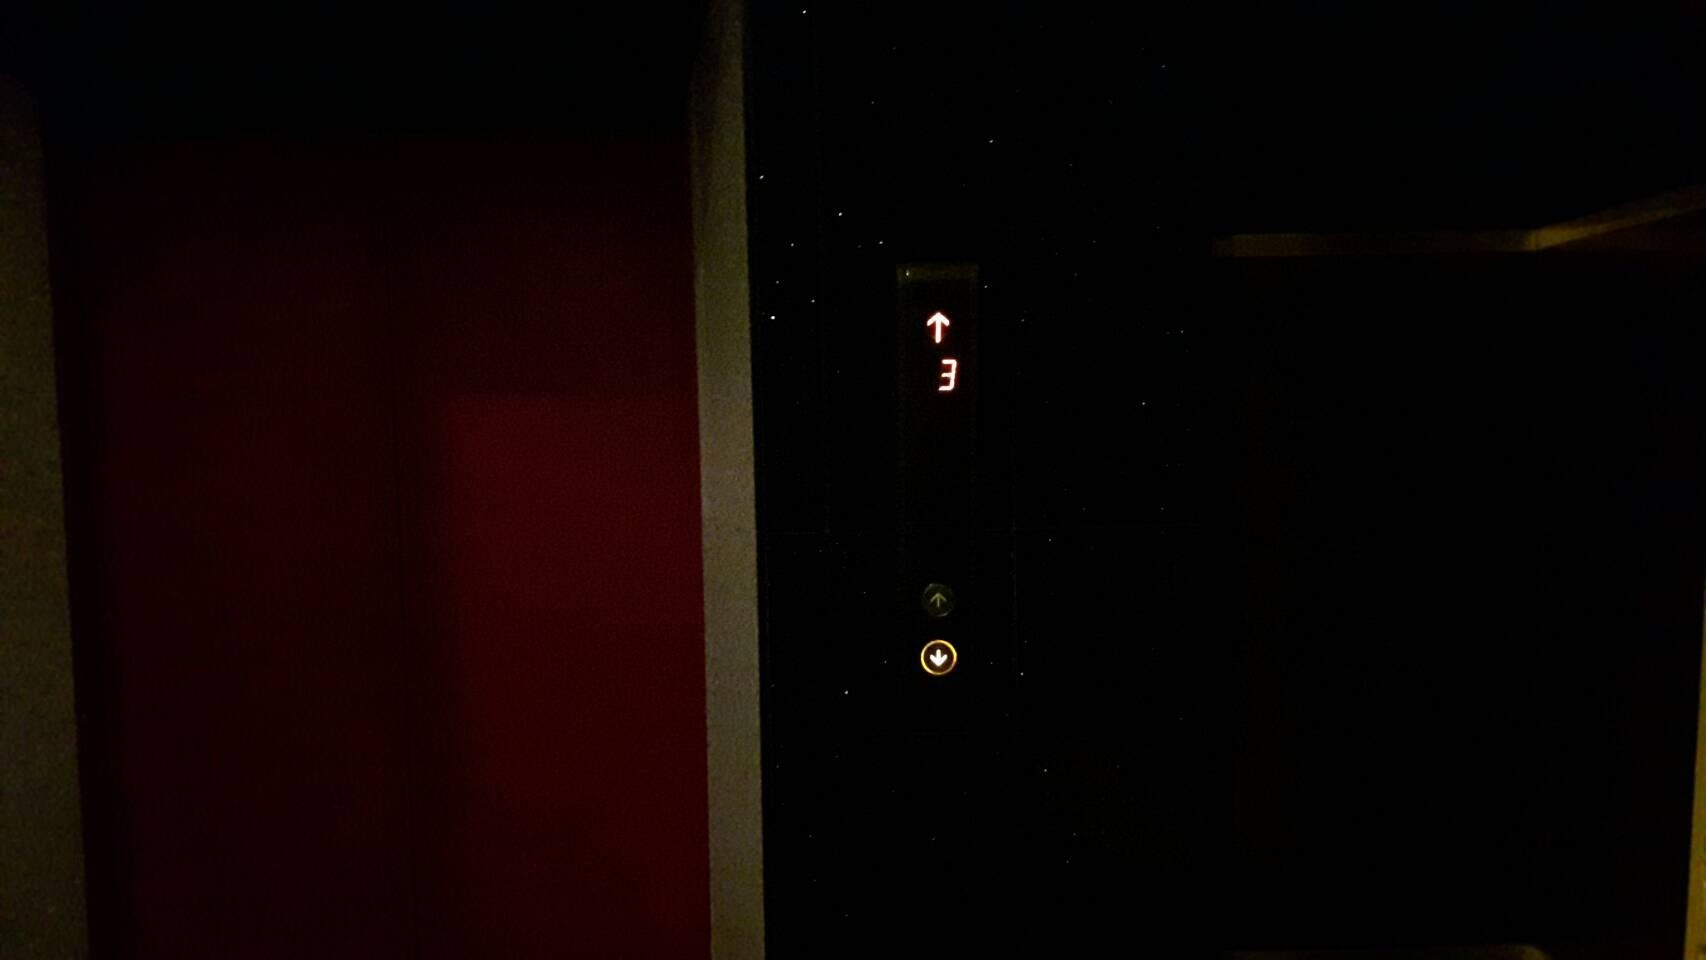down: (917, 636, 958, 679)
up: (919, 580, 956, 621)
